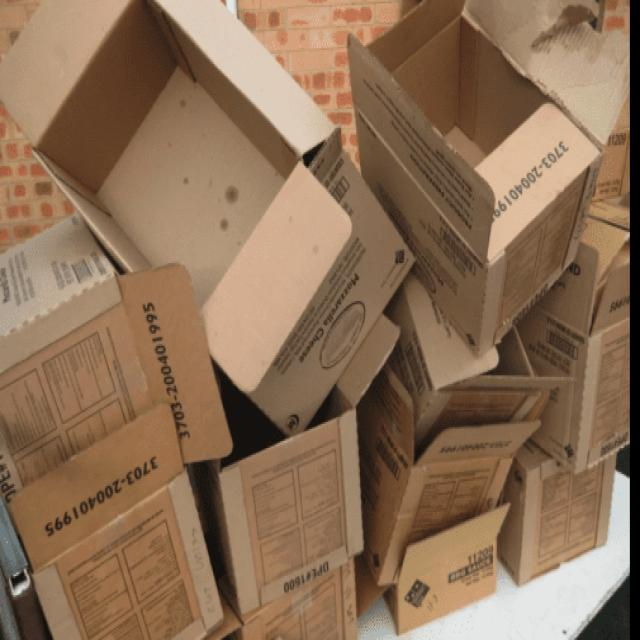Kardus: (0, 0, 630, 638), (0, 0, 413, 438), (528, 1, 597, 54)
